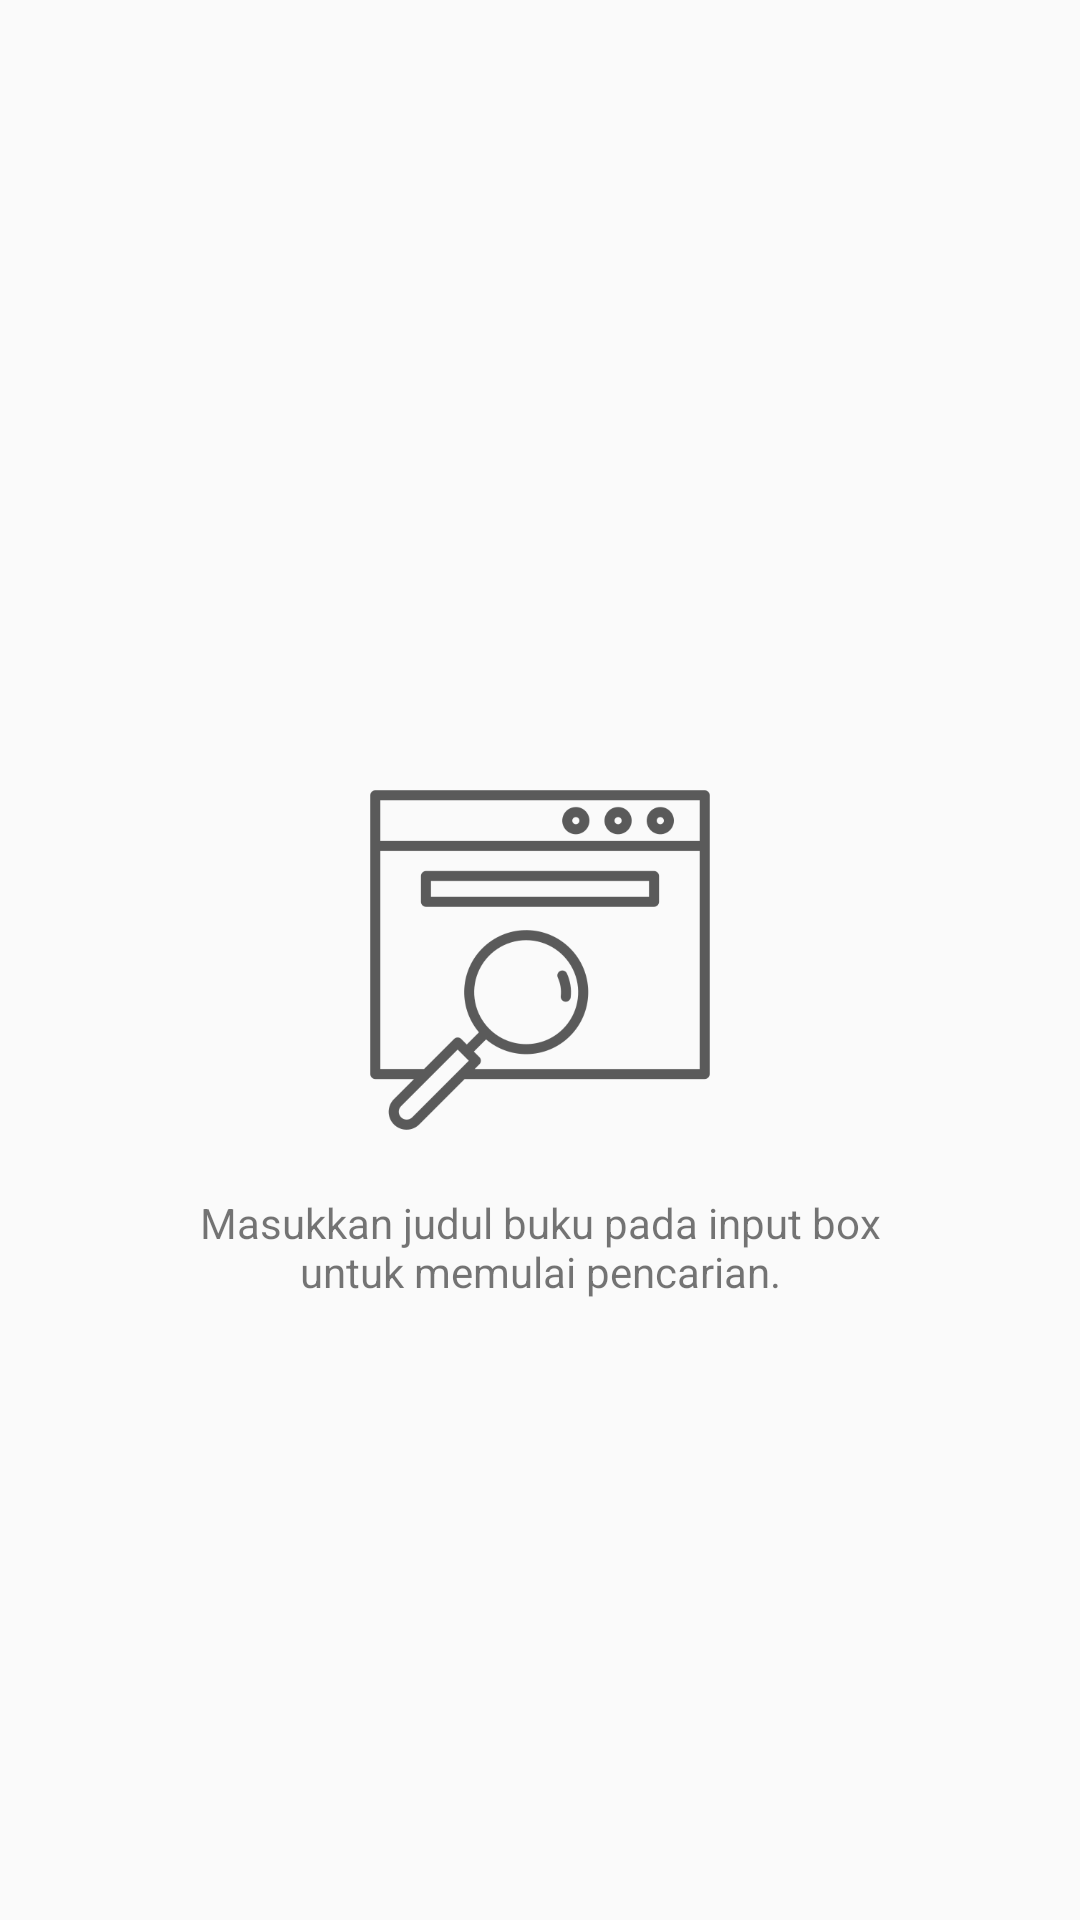

Named icons in this screenshot (1080*1920) and their centers, (x=x, y=y):
graphic search: (x=540, y=960)
